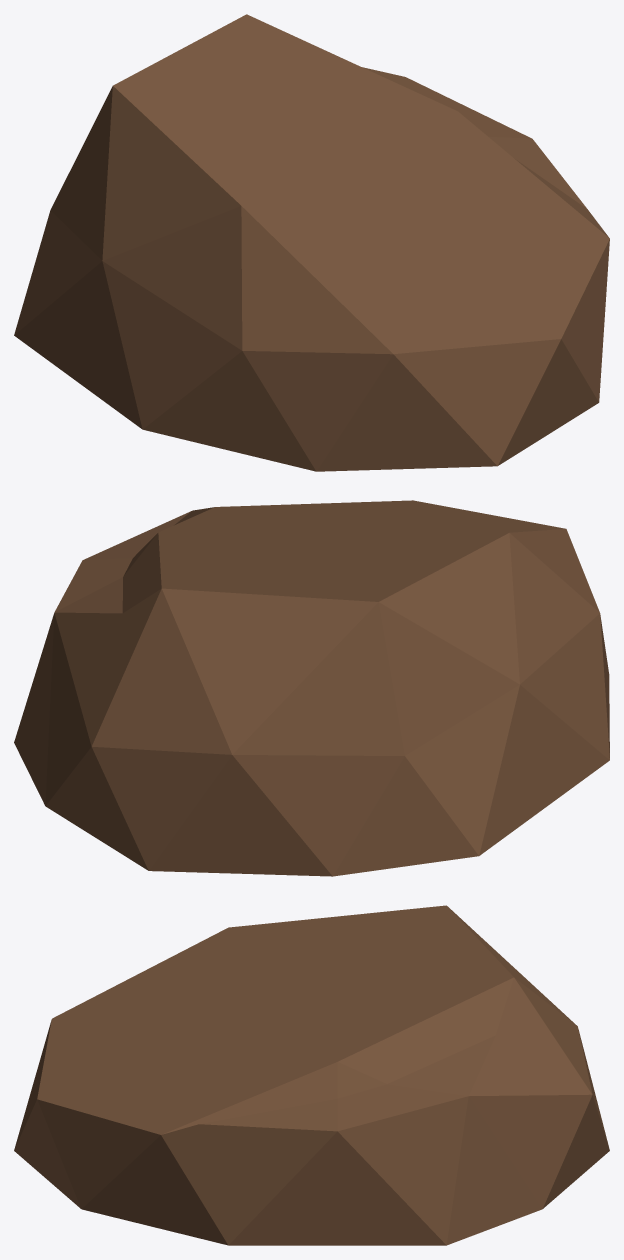
File: Stone2.fbx
3 views of the same model, one above another, from view 1: azimuth 30°, elevation 25°; view 2: azimuth 150°, elevation 25°; view 3: azimuth 270°, elevation 25° (orthographic). The views are drawn at different scales.
Parts seen in each view (by area): view 1: Icosphere; view 2: Icosphere; view 3: Icosphere.
Boxes of the visible parts, left/top/right/bottom form: Icosphere: left=14, top=14, right=609, bottom=471; Icosphere: left=14, top=500, right=609, bottom=876; Icosphere: left=14, top=905, right=609, bottom=1245.
Bounding box in the file's own units: 79.95 × 37.71 × 106.
